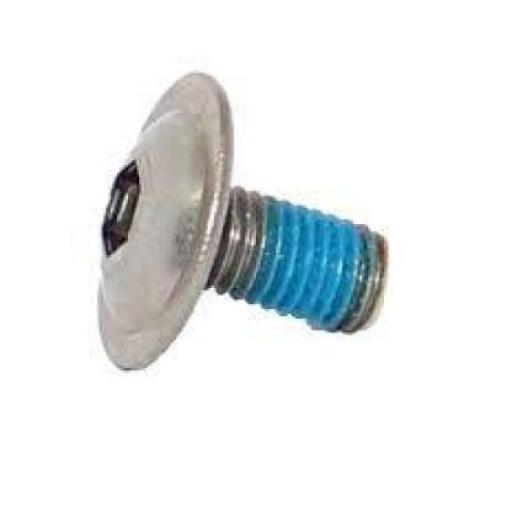Bolt: (96, 71, 391, 373)
